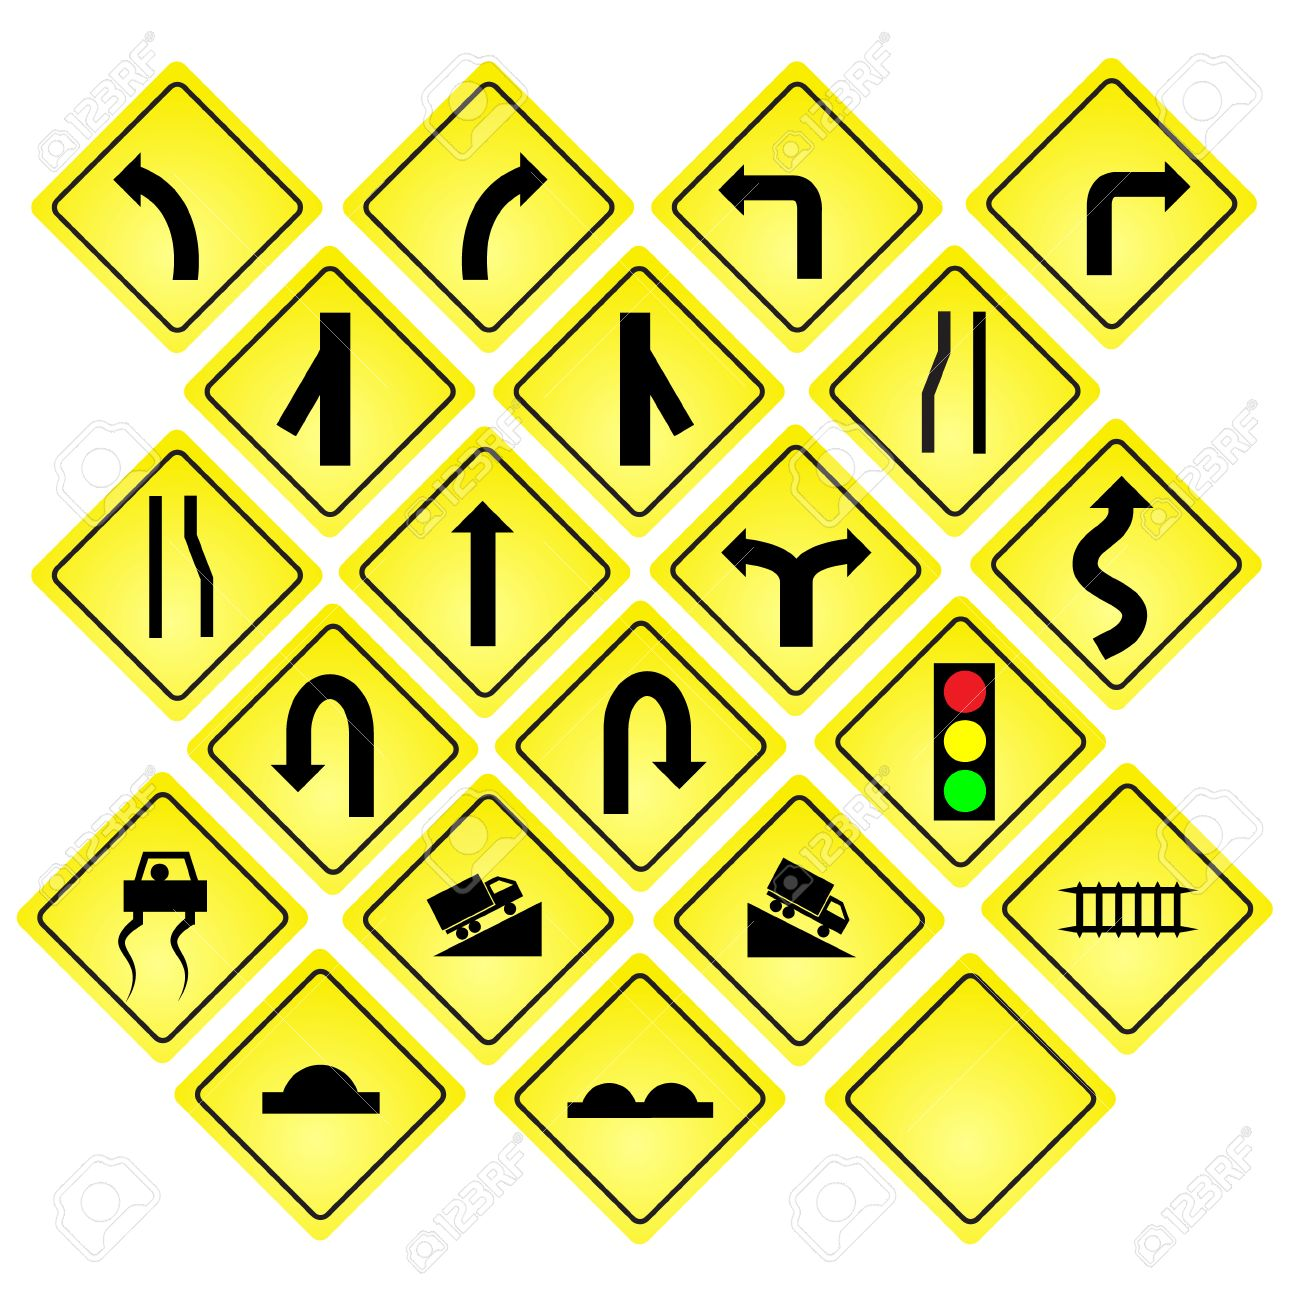left: (26, 56, 320, 356), (646, 61, 946, 354)
right: (960, 49, 1260, 356), (340, 60, 639, 352)
